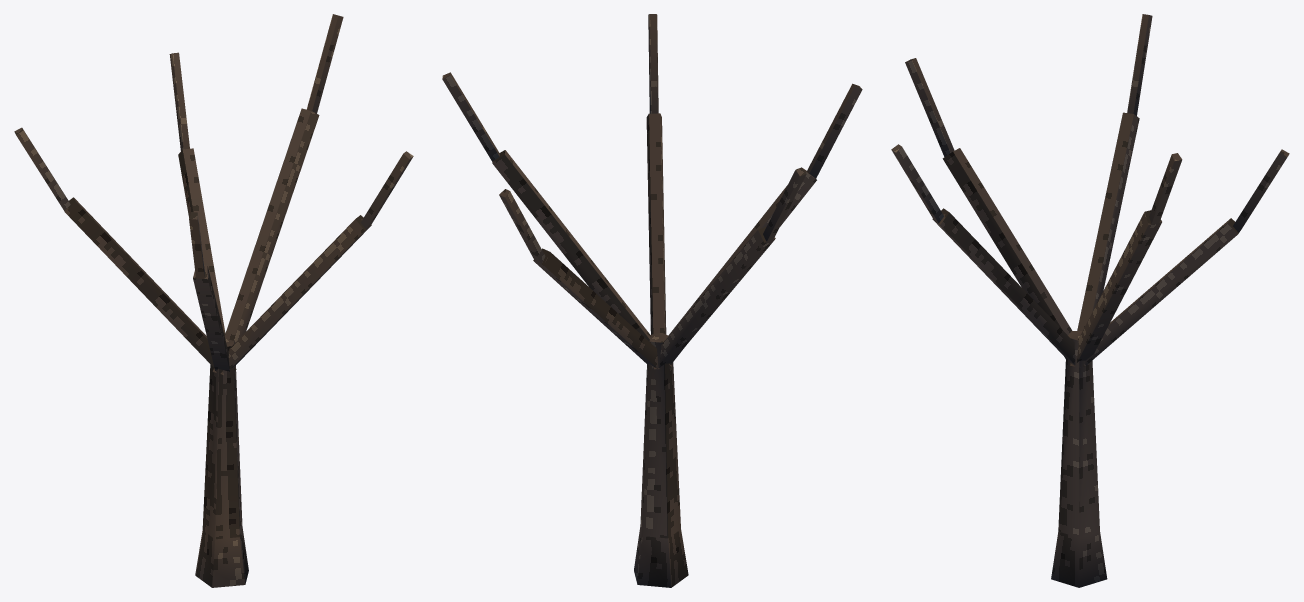
The model's file is mnat.orchard__bare.glb.
The picture shows the model from 3 angles, left to right: view 1: azimuth 30°, elevation 25°; view 2: azimuth 150°, elevation 25°; view 3: azimuth 270°, elevation 25°; orthographic projection. The views are drawn at different scales.
Parts seen in each view (by area): view 1: kit_trunk; view 2: kit_trunk; view 3: kit_trunk.
Part boxes in pixels (bbox=[...]): kit_trunk: bbox=[14, 14, 413, 587]; kit_trunk: bbox=[442, 14, 862, 587]; kit_trunk: bbox=[891, 14, 1289, 587].
Size of the model in its own units: 3.14 by 4.28 by 3.09.
1 material, 1 textured.
